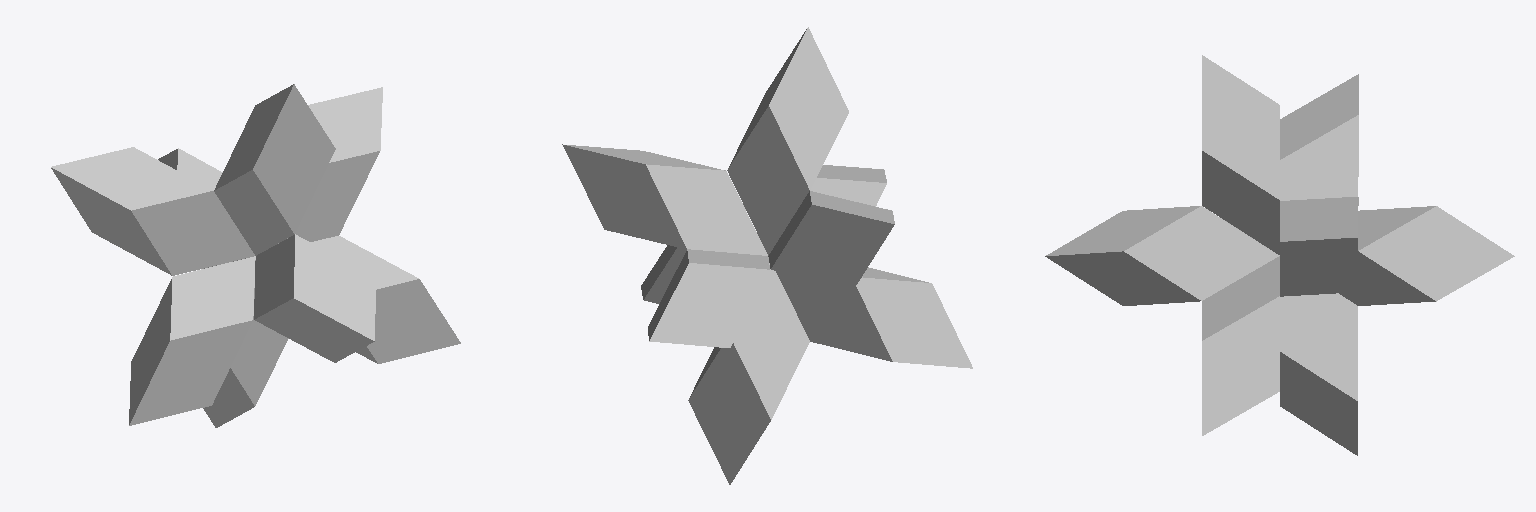
Rendered from treeMirrored.obj.
The picture shows the model from 3 angles: view 1: azimuth 30°, elevation 25°; view 2: azimuth 150°, elevation 25°; view 3: azimuth 270°, elevation 25°; orthographic projection.
Visible parts, largest first — view 1: tree2_Solid.001, tree1_Solid.052; view 2: tree2_Solid.001, tree1_Solid.052; view 3: tree2_Solid.001, tree1_Solid.052.
Part boxes in pixels (x1,y1,x2,y2): tree2_Solid.001: (51, 87, 382, 427); tree1_Solid.052: (129, 84, 460, 425); tree2_Solid.001: (562, 144, 894, 484); tree1_Solid.052: (641, 27, 972, 368); tree2_Solid.001: (1045, 74, 1358, 455); tree1_Solid.052: (1202, 55, 1514, 435).
Bounding box in the file's own units: 6.93 × 8 × 8.48.